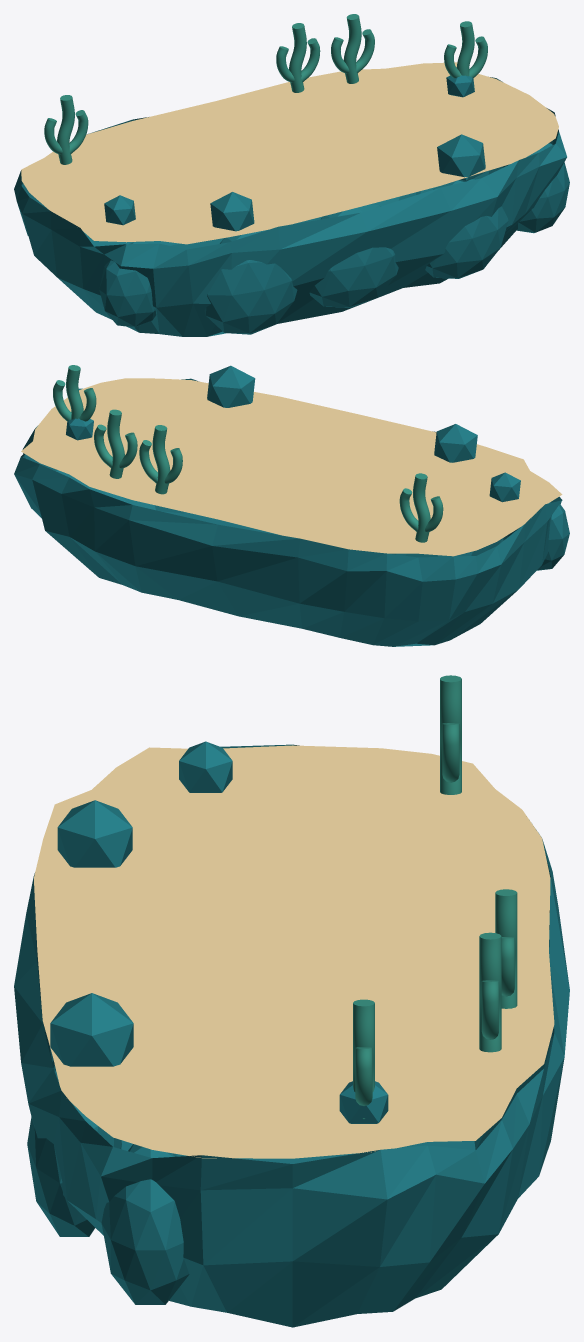
The model's file is island.glb.
3 renders of one model, top to bottom at view 1: azimuth 30°, elevation 25°; view 2: azimuth 150°, elevation 25°; view 3: azimuth 270°, elevation 25°, orthographic. The views are drawn at different scales.
Visible parts, largest first — view 1: Sandy island top, Faceted rocky island, Cliff boulder.001, Cliff boulder.002, Cliff boulder.003, Cliff boulder, Cliff boulder.004, Faceted stone.002, Faceted stone.001, Kelp stem, Kelp stem.001, Kelp stem.002 (+7 smaller); view 2: Sandy island top, Faceted rocky island, Faceted stone.002, Faceted stone.001, Cliff boulder, Kelp stem.002, Kelp stem, Kelp stem.001, Faceted stone, Kelp stem.003, Faceted stone.003, Kelp branch.001 (+6 smaller); view 3: Sandy island top, Faceted rocky island, Cliff boulder.004, Faceted stone.002, Faceted stone.001, Cliff boulder.003, Faceted stone, Kelp stem.002, Kelp stem, Kelp stem.001, Faceted stone.003, Kelp stem.003 (+4 smaller).
Boxes of the visible parts, x1,y1,x2,y2 form: Sandy island top: (21,62,558,244); Faceted rocky island: (14,77,566,336); Cliff boulder.001: (204,230,297,334); Cliff boulder.002: (309,204,398,307); Cliff boulder.003: (425,179,508,278); Cliff boulder: (99,242,156,327); Cliff boulder.004: (502,143,569,233); Faceted stone.002: (437,134,485,181); Faceted stone.001: (210,192,254,231); Kelp stem: (57,95,74,164); Kelp stem.001: (289,23,306,92); Kelp stem.002: (343,14,361,83); Sandy island top: (21,378,562,556); Faceted rocky island: (14,378,562,646); Faceted stone.002: (207,365,255,407); Faceted stone.001: (434,424,477,462); Cliff boulder: (503,502,569,570); Kelp stem.002: (107,409,124,478); Kelp stem: (413,473,430,542); Kelp stem.001: (152,425,170,494); Faceted stone: (489,472,520,502); Kelp stem.003: (66,365,83,419); Faceted stone.003: (66,418,93,440); Kelp branch.001: (399,488,418,531); Sandy island top: (34,745,554,1158); Faceted rocky island: (14,744,569,1327); Cliff boulder.004: (101,1144,189,1304); Faceted stone.002: (50,993,133,1066); Faceted stone.001: (57,800,132,867); Cliff boulder.003: (27,1060,121,1236); Faceted stone: (179,741,232,792); Kelp stem.002: (479,932,501,1052); Kelp stem: (440,675,461,794); Kelp stem.001: (495,889,517,1008); Faceted stone.003: (339,1081,388,1123); Kelp stem.003: (353,999,374,1118).
Bounding box in the file's own units: 6.25 × 2.3 × 3.52.
